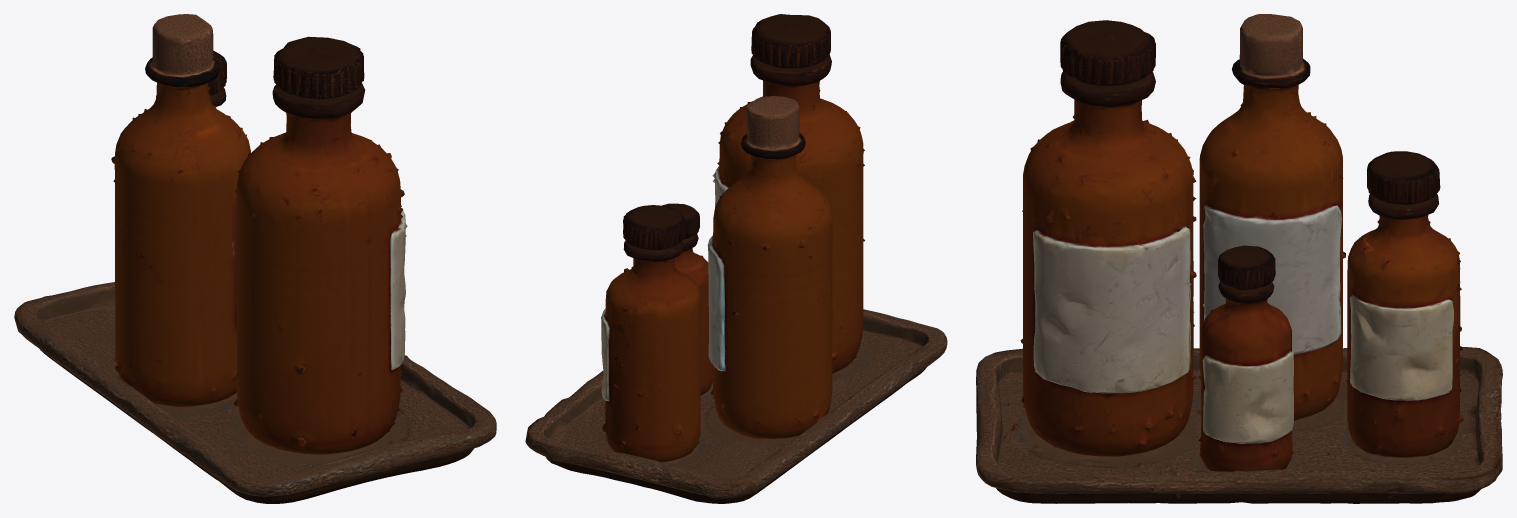
3 views of the same model, side by side, from view 1: azimuth 30°, elevation 25°; view 2: azimuth 150°, elevation 25°; view 3: azimuth 270°, elevation 25° (orthographic). The views are drawn at different scales.
Parts seen in each view (by area): view 1: tripo_node_ed72b7fb-73e2-4897-a1a8-692e72912431; view 2: tripo_node_ed72b7fb-73e2-4897-a1a8-692e72912431; view 3: tripo_node_ed72b7fb-73e2-4897-a1a8-692e72912431.
Boxes of the visible parts, x1,y1,x2,y2 form: tripo_node_ed72b7fb-73e2-4897-a1a8-692e72912431: [14, 14, 496, 503]; tripo_node_ed72b7fb-73e2-4897-a1a8-692e72912431: [525, 14, 947, 503]; tripo_node_ed72b7fb-73e2-4897-a1a8-692e72912431: [976, 14, 1502, 503].
Bounding box in the file's own units: 0.6021 × 0.8669 × 1.
1 material, 1 textured.
